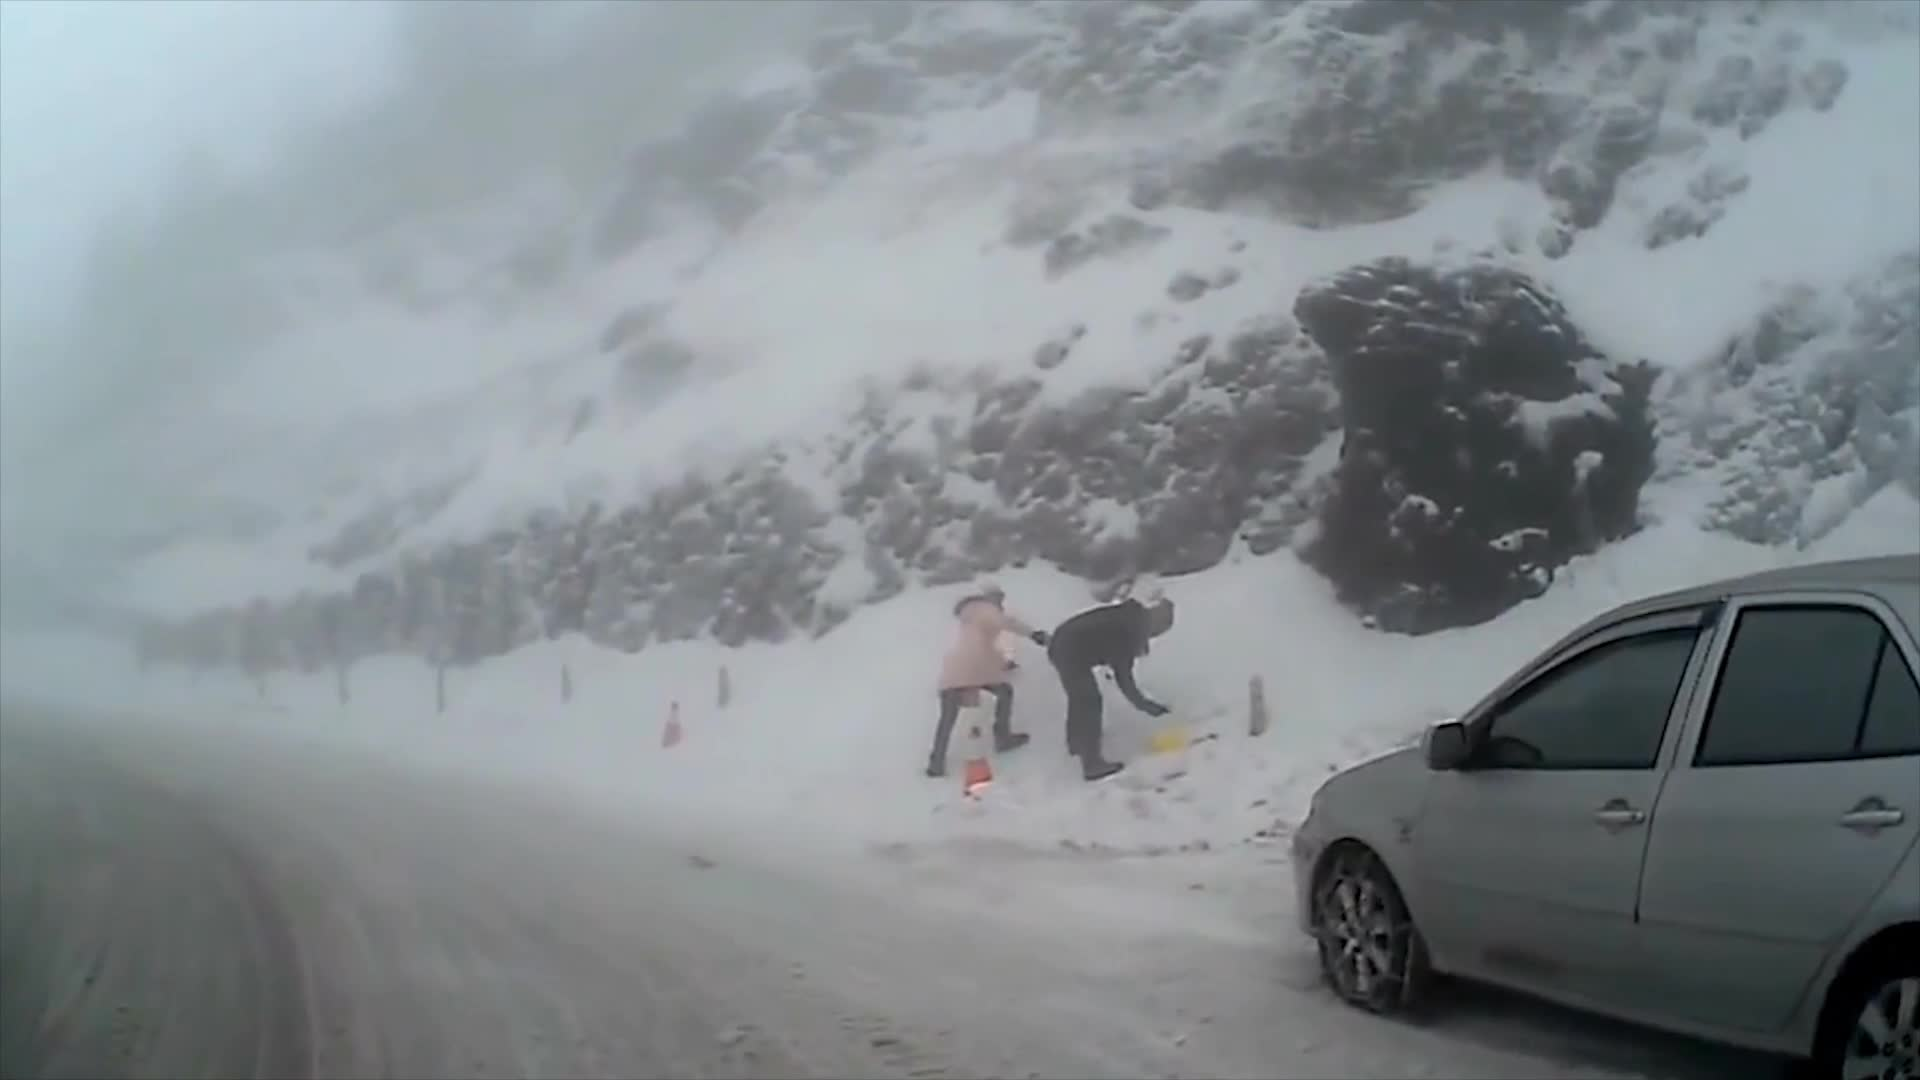pedestrian: (921, 581, 1050, 779), (1045, 599, 1173, 784)
vehicle: (1292, 553, 1920, 1080)
